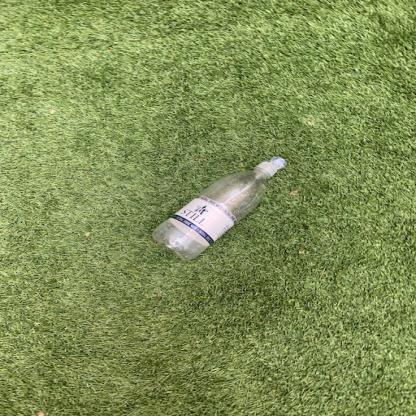trash: (150, 157, 288, 261)
